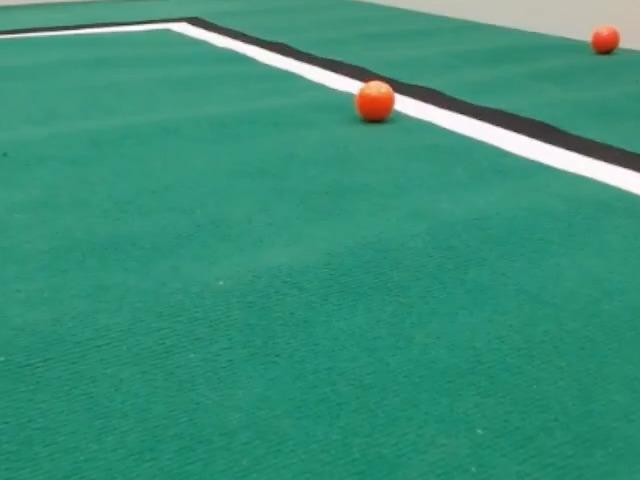Ball: (355, 80, 394, 122), (590, 25, 619, 54)
